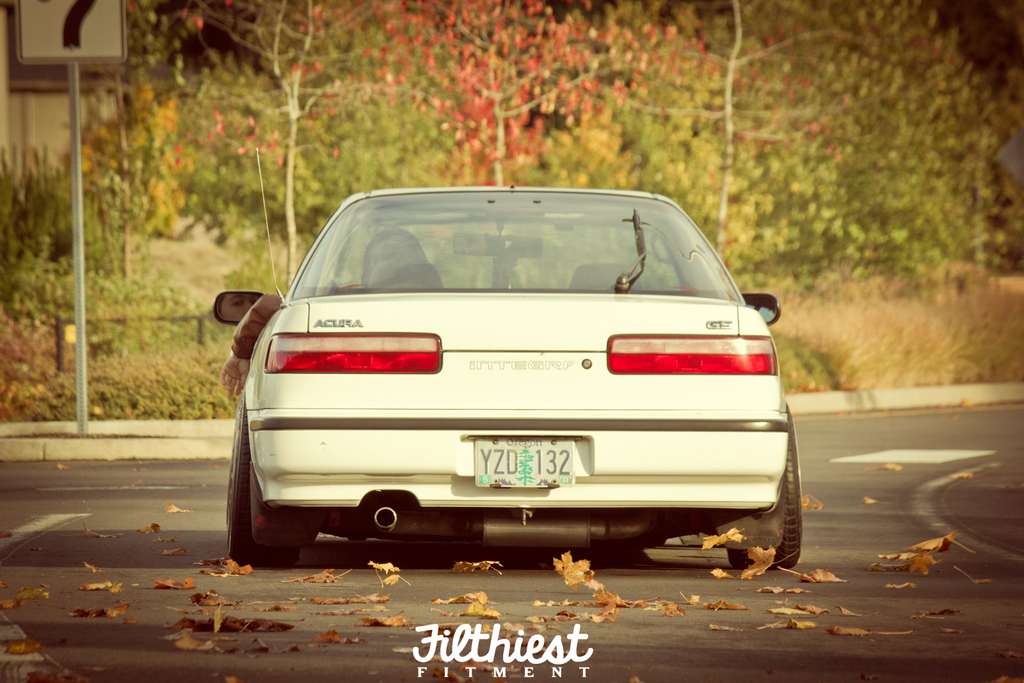Car: (203, 186, 813, 581)
